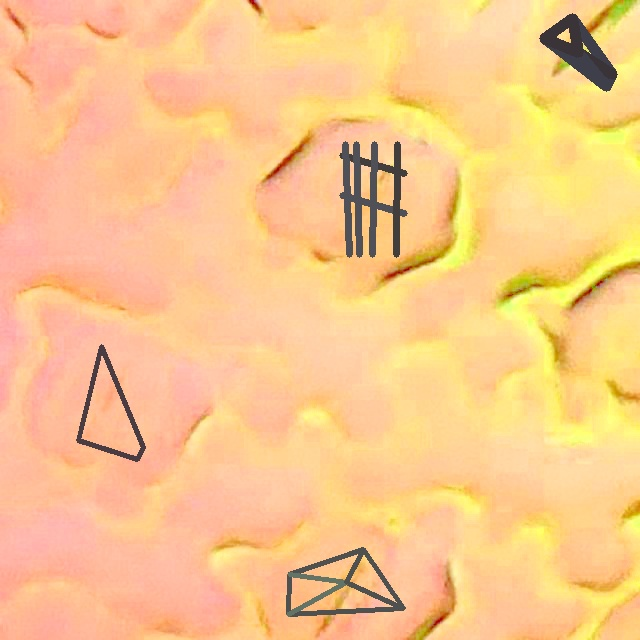close: (76, 344, 145, 461), (339, 142, 407, 256)
open: (287, 547, 405, 616), (539, 14, 616, 91)
